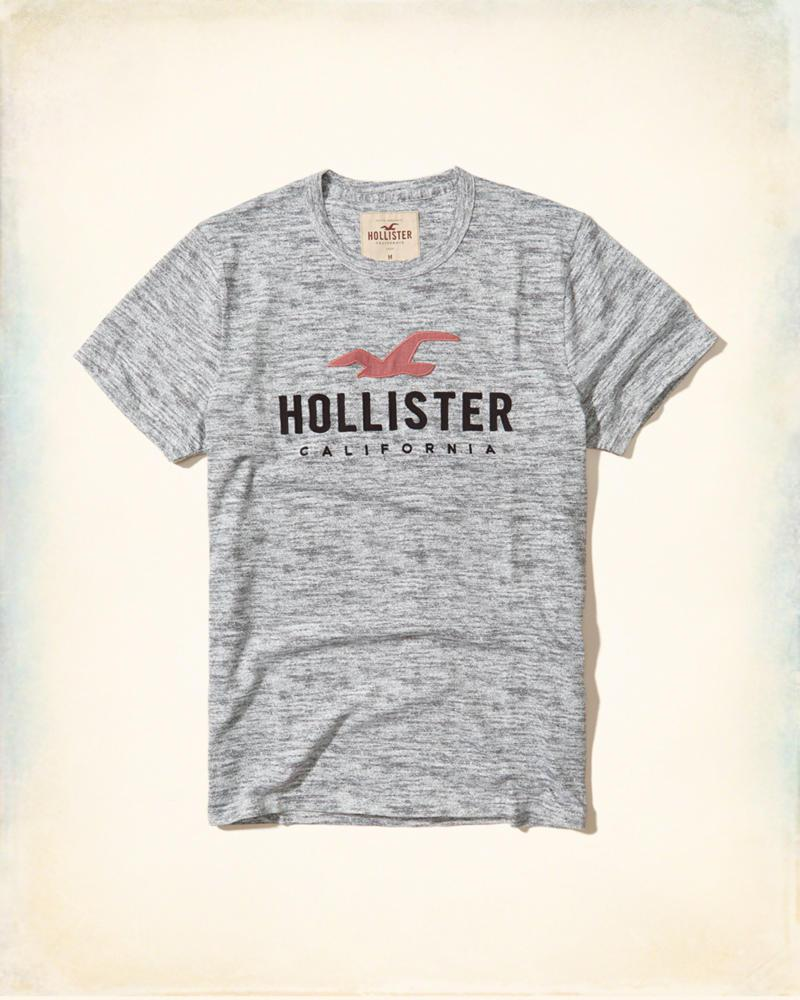teeshirt: (70, 156, 783, 901)
